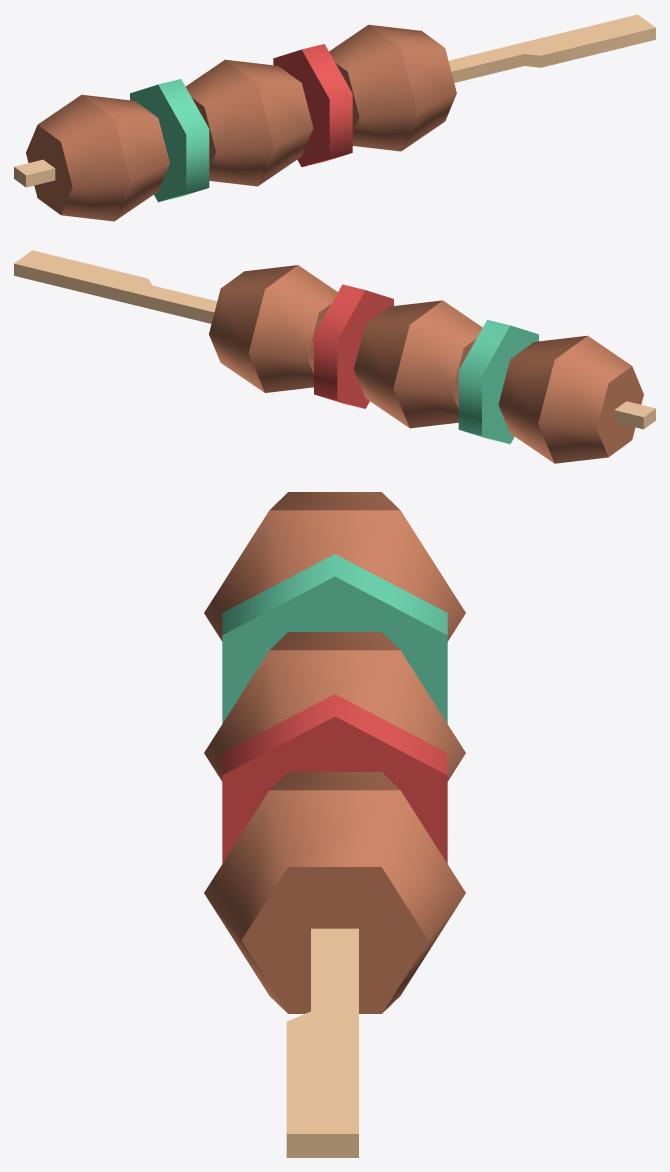
The model's file is skewerVegetables.obj.
3 renders of one model, top to bottom at view 1: azimuth 30°, elevation 25°; view 2: azimuth 150°, elevation 25°; view 3: azimuth 270°, elevation 25°, orthographic. The views are drawn at different scales.
Visible parts, largest first — view 1: meat, vegetables, skewerVegetables; view 2: meat, vegetables, skewerVegetables; view 3: meat, vegetables, skewerVegetables.
Part boxes in pixels (left/top/right/bottom): meat: left=26, top=24, right=456, bottom=221; vegetables: left=130, top=44, right=352, bottom=202; skewerVegetables: left=14, top=14, right=655, bottom=187; meat: left=209, top=265, right=643, bottom=463; vegetables: left=314, top=284, right=538, bottom=444; skewerVegetables: left=14, top=250, right=655, bottom=429; meat: left=204, top=492, right=465, bottom=1013; vegetables: left=222, top=554, right=447, bottom=863; skewerVegetables: left=286, top=928, right=358, bottom=1157.
Size of the model in its own units: 0.5967 by 0.1077 by 0.1085.
